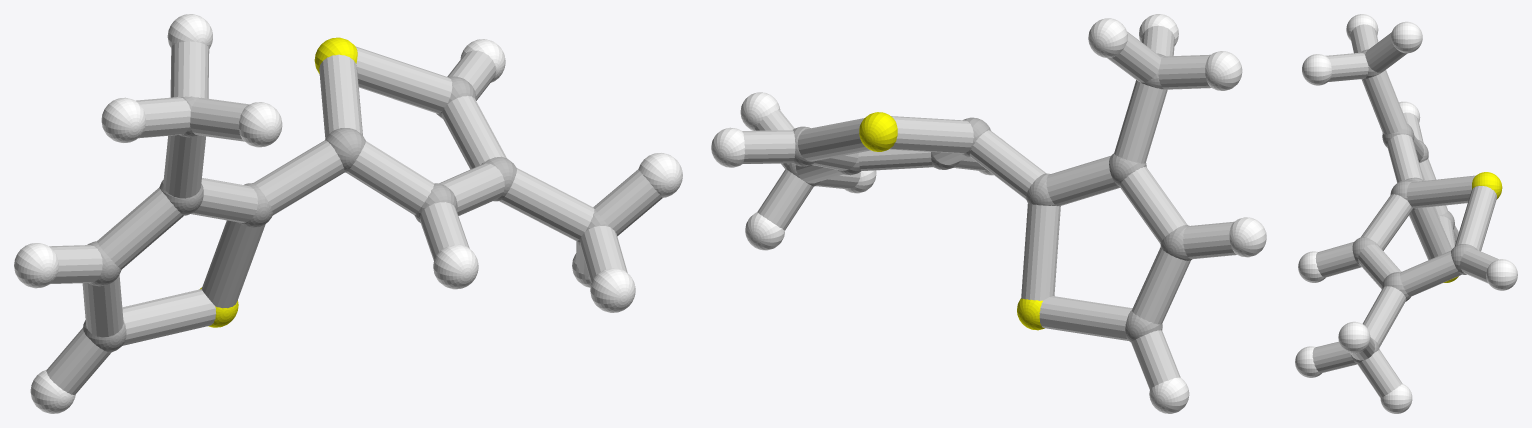
File: Methylthiophene_Phi_40_Theta_280_Methylthiophene.glb
3 renders of one model, left to right at view 1: azimuth 30°, elevation 25°; view 2: azimuth 150°, elevation 25°; view 3: azimuth 270°, elevation 25°, orthographic. The views are drawn at different scales.
Visible parts, largest first — view 1: grp7965, grp3621, grp1, grp7241; view 2: grp7965, grp3621, grp1, grp7241; view 3: grp7965, grp3621, grp1, grp7241.
Part boxes in pixels (box(x1,y1,x2,y2)): grp7965: box(46, 41, 662, 394); grp3621: box(14, 14, 682, 413); grp1: box(83, 76, 609, 352); grp7241: box(199, 37, 357, 327); grp7965: box(742, 25, 1236, 389); grp3621: box(711, 14, 1266, 413); grp1: box(786, 53, 1191, 342); grp7241: box(859, 112, 1044, 330); grp7965: box(1312, 24, 1498, 397); grp3621: box(1295, 14, 1517, 413); grp1: box(1351, 49, 1477, 363); grp7241: box(1443, 172, 1502, 282).
Size of the model in its own units: 9.53 by 5.74 by 4.19.
